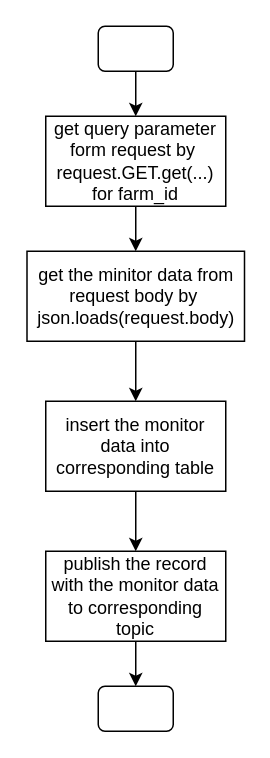
Some shapes in this 270 by 758 pixel diagram are drawn without their labels. The box of each missing label's shape, as (x1, y1, x2, y2) in pixels:
End: (97, 685, 173, 731)
Start: (97, 25, 173, 71)
